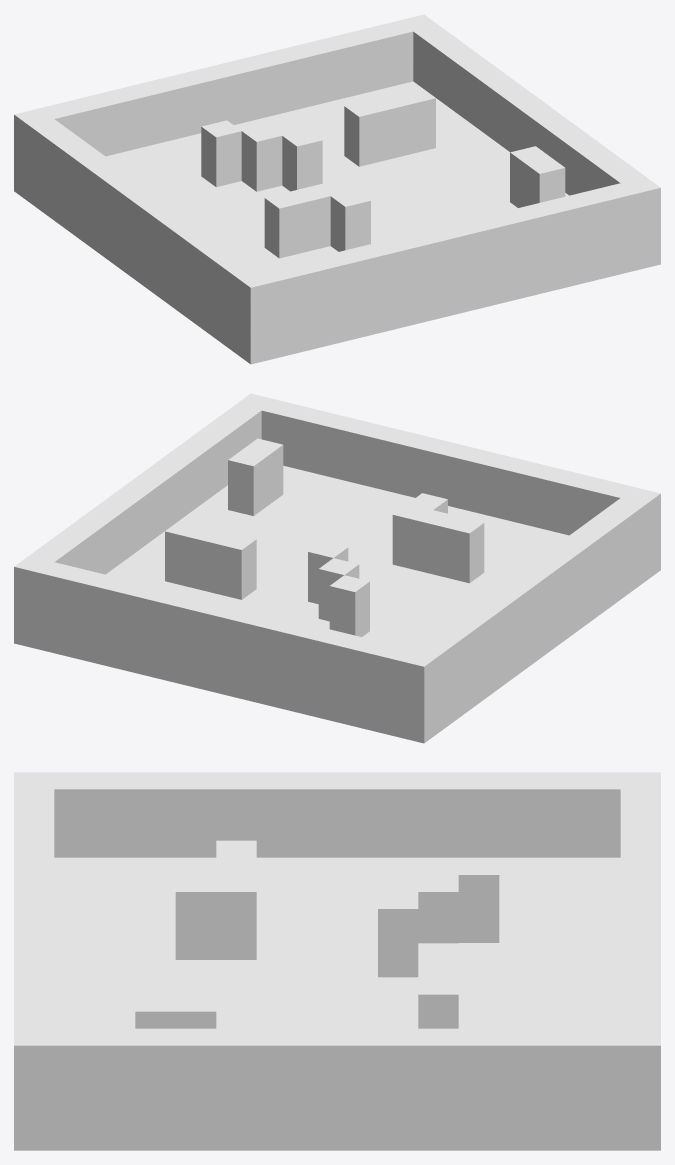
The model's file is stage.obj.
3 views of the same model, one above another, from view 1: azimuth 30°, elevation 25°; view 2: azimuth 150°, elevation 25°; view 3: azimuth 270°, elevation 25° (orthographic). The views are drawn at different scales.
Parts seen in each view (by area): view 1: Cube; view 2: Cube; view 3: Cube.
Part boxes in pixels (x1=…): Cube: x1=14, y1=14, x2=660, y2=364; Cube: x1=14, y1=393, x2=660, y2=743; Cube: x1=14, y1=772, x2=660, y2=1150.
Bounding box in the file's own units: 16 × 2.86 × 16.
Materials: 1 (1 with a texture image).
